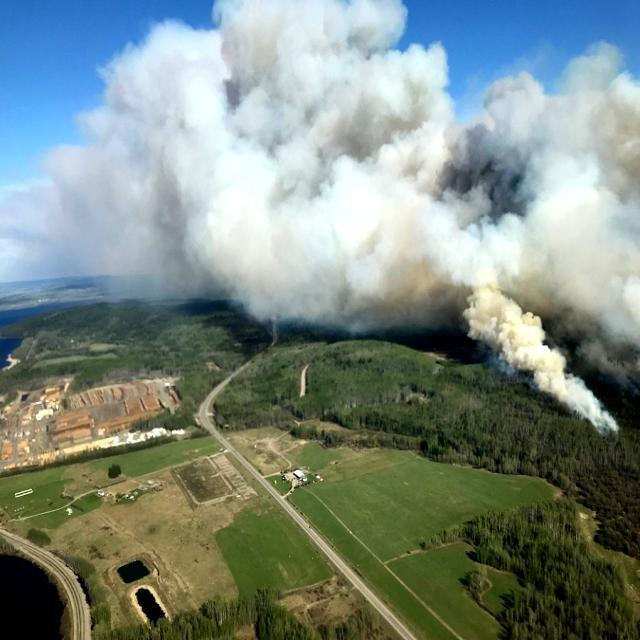Smoke: (101, 0, 626, 305), (472, 278, 608, 417)
